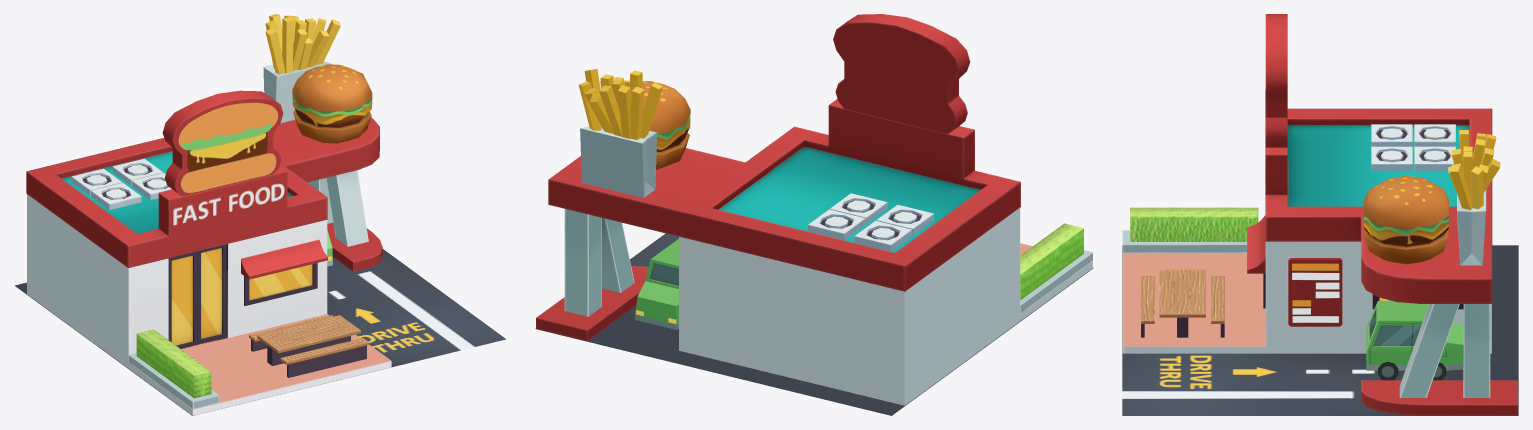
Rendered from fast_food_restaurant.glb.
The picture shows the model from 3 angles, left to right: view 1: azimuth 30°, elevation 25°; view 2: azimuth 150°, elevation 25°; view 3: azimuth 270°, elevation 25°; orthographic projection. The views are drawn at different scales.
Visible parts, largest first — view 1: Object_2; view 2: Object_2; view 3: Object_2.
Boxes of the visible parts, left/top/right/bottom form: Object_2: left=15, top=14, right=505, bottom=415; Object_2: left=535, top=14, right=1093, bottom=415; Object_2: left=1122, top=14, right=1518, bottom=415.
Size of the model in its own units: 136 by 101 by 133.
Materials: 1 (1 with a texture image).
